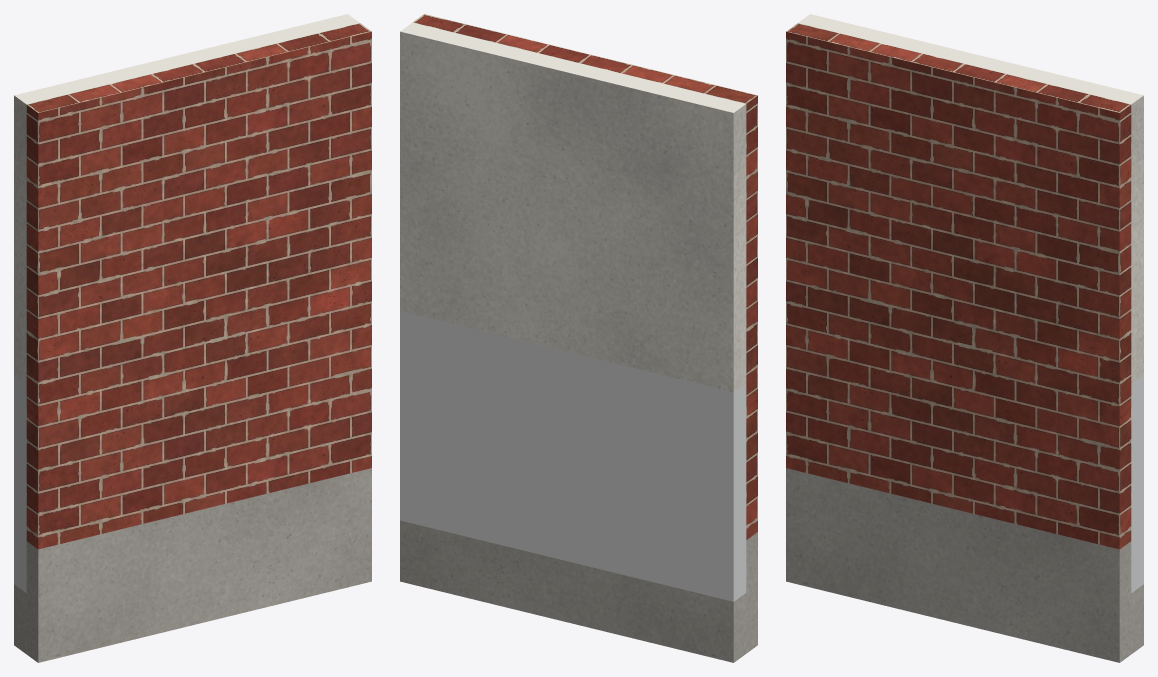
The model's file is q_plain.glb.
3 renders of one model, left to right at view 1: azimuth 30°, elevation 25°; view 2: azimuth 150°, elevation 25°; view 3: azimuth 330°, elevation 25°, orthographic.
Visible parts, largest first — view 1: q_plain_brick, q_plain_concrete, q_plain_plaster, q_plain_tile; view 2: q_plain_plaster, q_plain_tile, q_plain_concrete, q_plain_brick; view 3: q_plain_brick, q_plain_concrete, q_plain_plaster, q_plain_tile.
Part boxes in pixels (x1,y1,x2,y2): q_plain_brick: (26, 23, 371, 549); q_plain_concrete: (14, 468, 371, 662); q_plain_plaster: (14, 14, 359, 383); q_plain_tile: (14, 375, 26, 592); q_plain_plaster: (400, 22, 746, 392); q_plain_tile: (400, 311, 746, 601); q_plain_concrete: (400, 520, 757, 662); q_plain_brick: (413, 14, 757, 539); q_plain_brick: (786, 23, 1131, 549); q_plain_concrete: (786, 468, 1143, 662); q_plain_plaster: (798, 14, 1143, 383); q_plain_tile: (1131, 375, 1143, 592).
Bounding box in the file's own units: 2 × 3.15 × 0.25.
4 materials, 3 textured.
